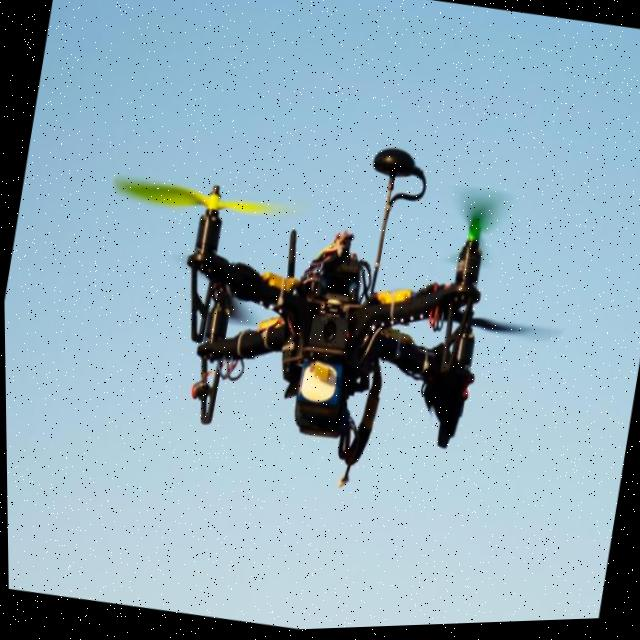drones: (37, 76, 618, 567)
